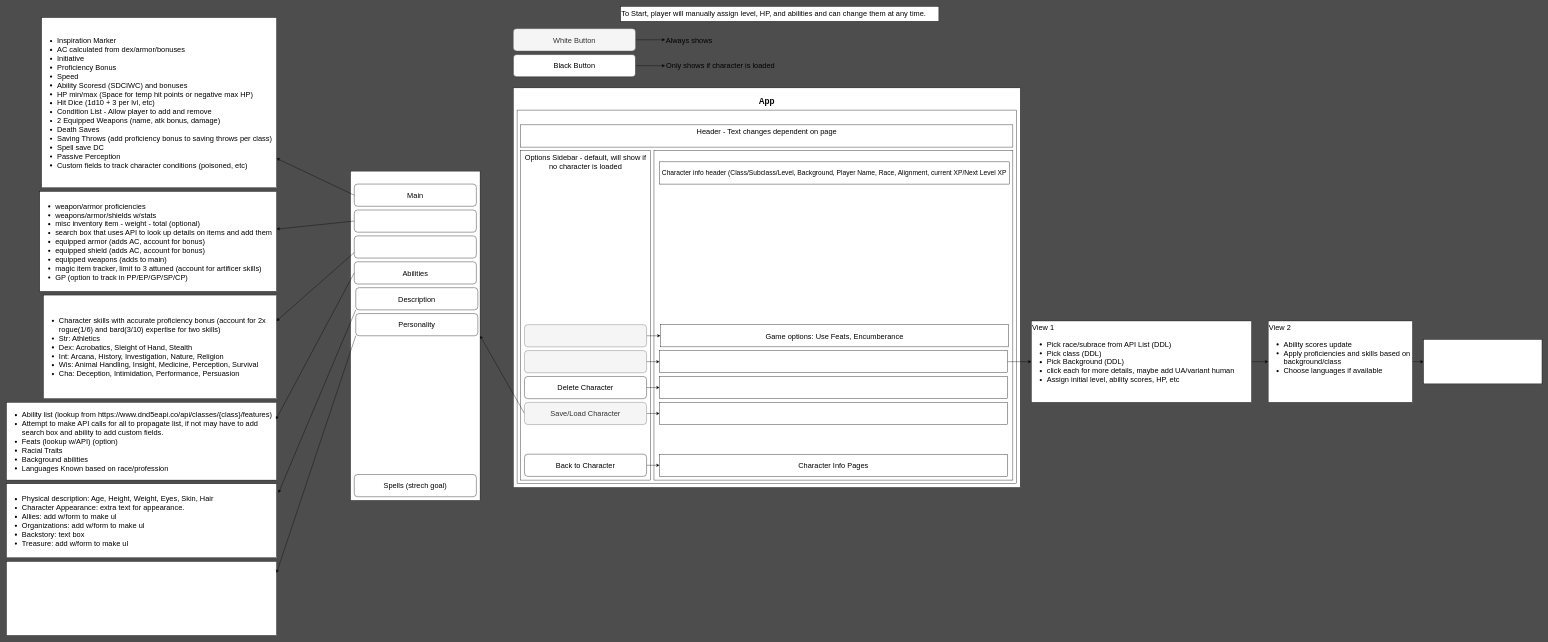
Image size: 1548x642. Some labels were removed from this diagram. Each missing label, with the box of its shape:
Character Control: (517, 110, 1017, 484)
Character Sidebar - shows charName: (350, 171, 480, 500)
Confirmation page: (659, 376, 1007, 399)
Content Area - Changes depending on buttons from sidebar.: (654, 150, 1013, 480)
Inventory: (354, 210, 476, 232)
New Character: (524, 350, 647, 373)
New Character form, cycle through views with counter.: (659, 350, 1007, 373)
Options: (524, 324, 647, 347)
Personality Traits Ideals Bonds Flaws: (6, 561, 277, 635)
Save List Page Can confirm slots to save/load character (start w/one): (659, 402, 1007, 425)
Skills: (354, 236, 476, 258)
View 3 Name (mandatory) Physical/Mental data (optional: (1423, 339, 1542, 384)
